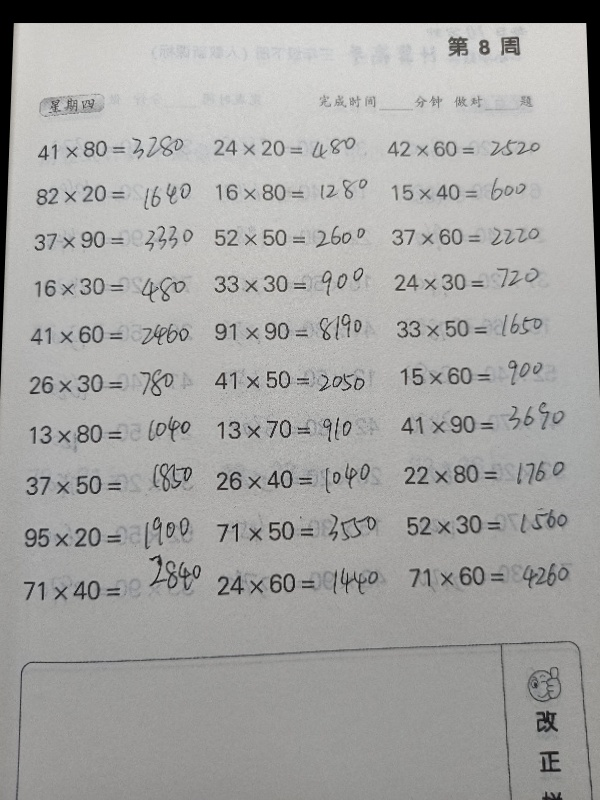equation: (207, 458, 389, 504), (209, 560, 394, 604), (207, 410, 389, 451), (206, 310, 386, 351), (208, 511, 392, 550), (15, 572, 200, 608), (400, 558, 584, 594), (205, 218, 383, 255), (207, 362, 387, 398), (16, 519, 200, 554), (397, 506, 581, 541), (394, 456, 577, 491), (17, 466, 199, 501), (20, 416, 202, 451), (392, 407, 573, 442), (205, 130, 380, 166), (29, 131, 204, 167), (20, 366, 201, 400), (22, 317, 201, 351), (388, 312, 567, 346), (25, 269, 204, 303), (206, 266, 384, 300), (391, 359, 572, 392), (387, 223, 568, 256), (25, 224, 202, 257), (386, 266, 565, 298), (206, 176, 382, 208), (384, 177, 561, 208), (27, 179, 204, 209), (379, 134, 554, 164)
